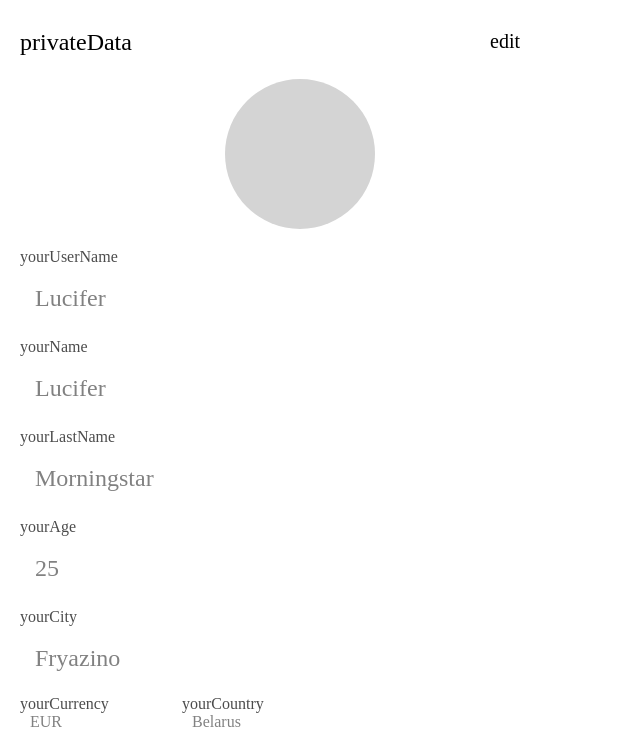
Test case: editableProfileCardTest › cancelInputs
This screenshot has width=617, height=744.
Click the button with test id "EditableProfileCard.EditButton" at (505, 42), box [430,20,580,63]
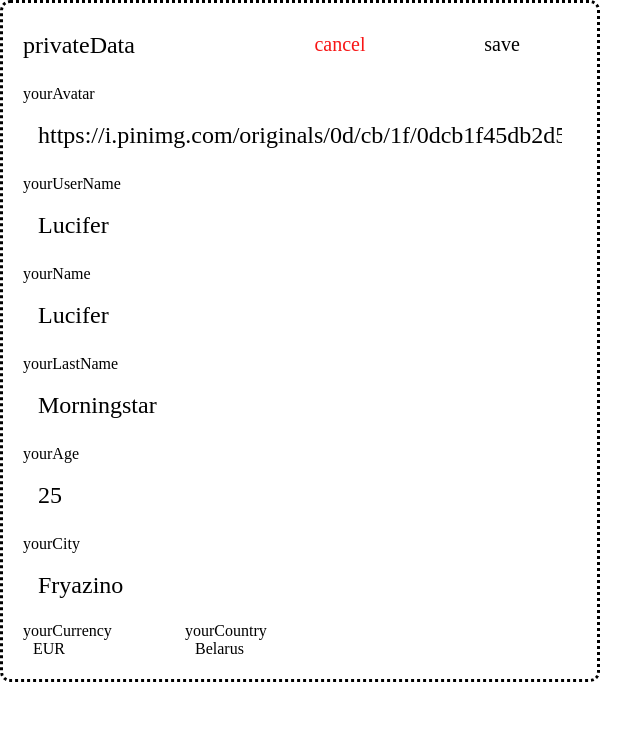
Replace the text in the field with test id "EditableProfileCard.UserNameInput.InputElement" with "1234" at (300, 225), box [23,204,577,246]
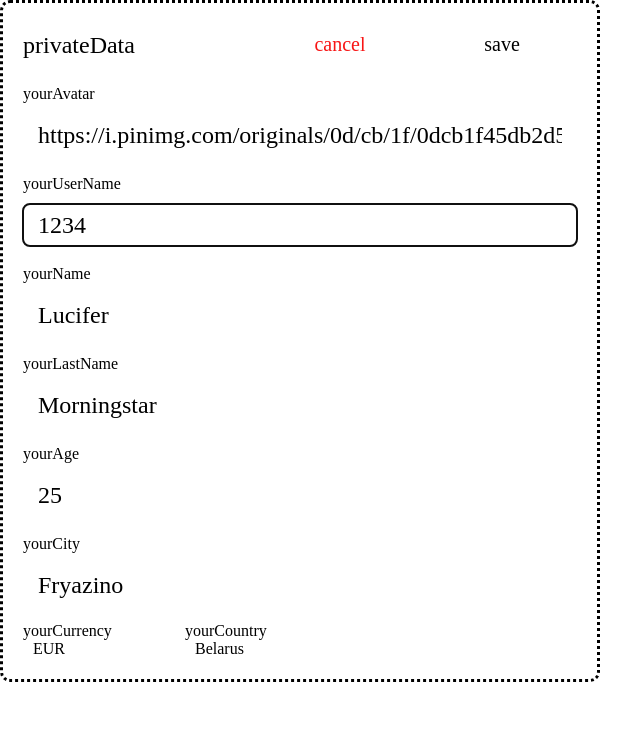
Click the button with test id "EditableProfileCard.CancelButton" at (340, 44), box [265,23,415,66]
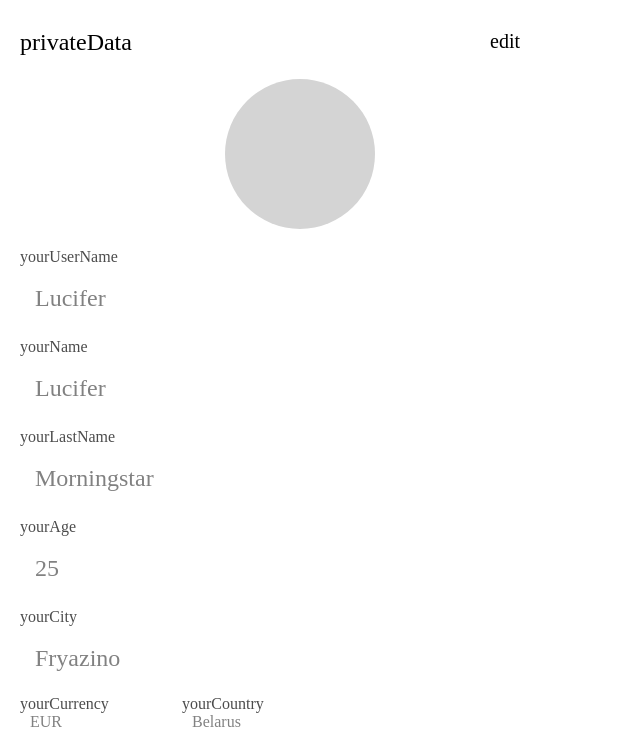
Expected: the field with test id "EditableProfileCard.UserNameInput.InputElement" holds "Lucifer", [20,277,580,319]
